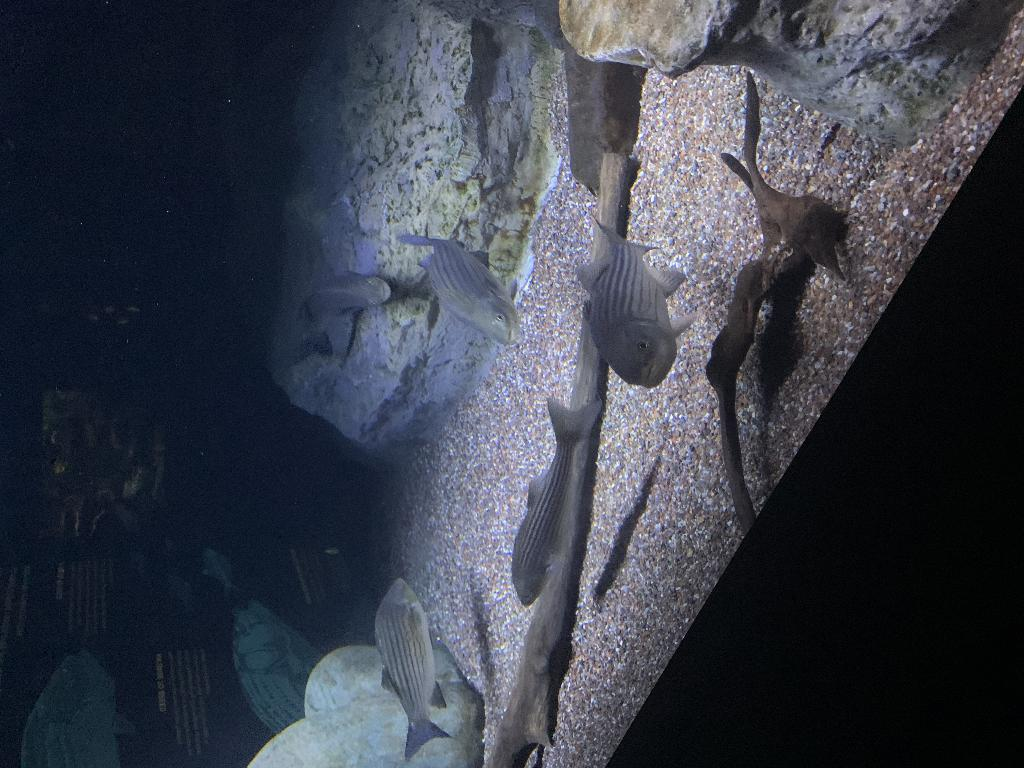fish: (576, 212, 694, 388), (510, 395, 596, 607), (372, 576, 452, 764), (398, 231, 522, 349), (298, 268, 390, 324)
